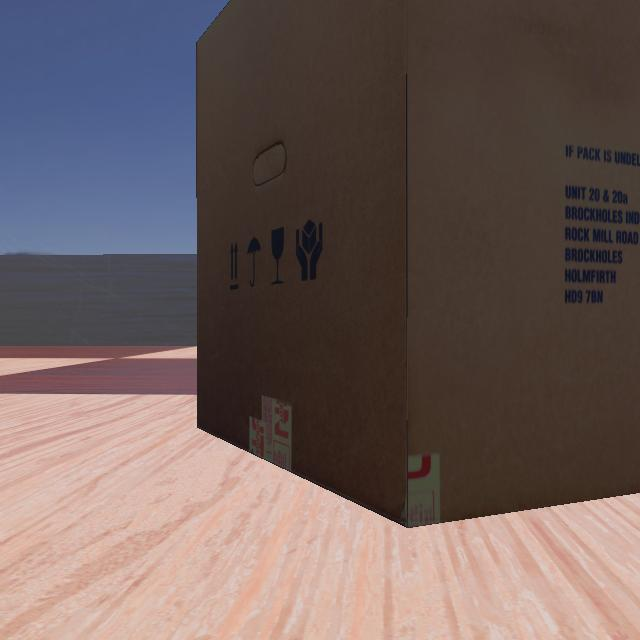cardboard-box: (48, 0, 640, 554)
